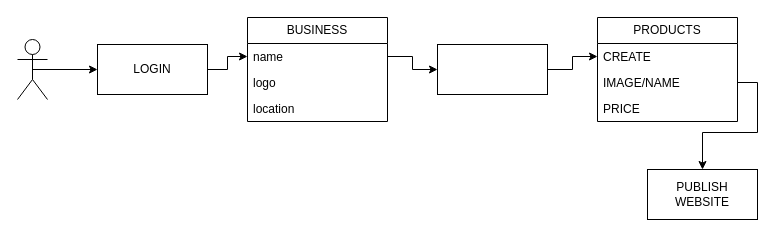
The diagram is 783 pixels wide and 237 high, and some of its shapes have lost their labels. Each missing label, with the centre of its shape:
CHOOSE TEMPLATE: pixel 492 69
User: pixel 32 69
